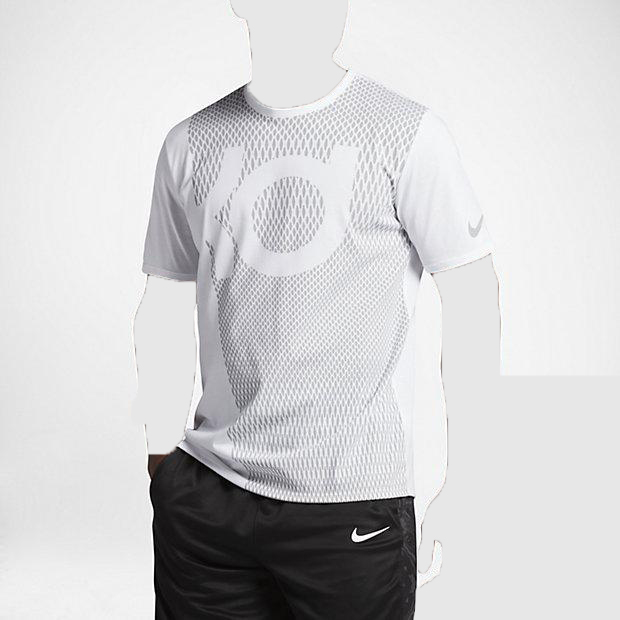teeshirt: (140, 75, 504, 509)
